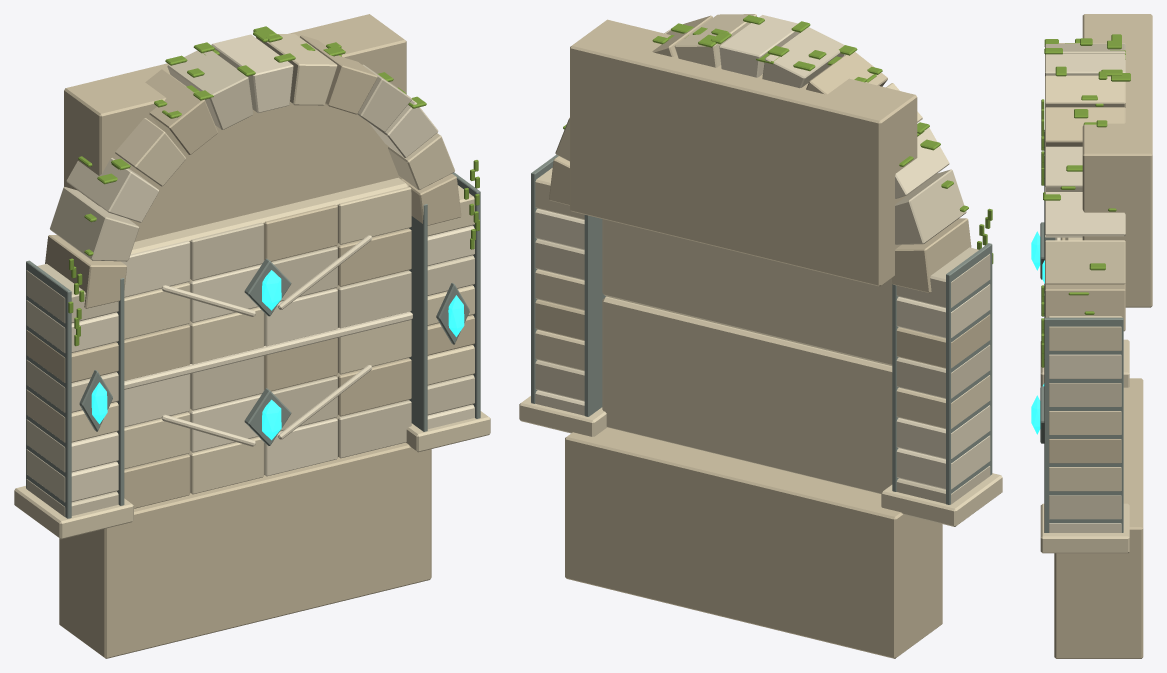
The model's file is timed_stone_gate.glb.
3 renders of one model, left to right at view 1: azimuth 30°, elevation 25°; view 2: azimuth 150°, elevation 25°; view 3: azimuth 270°, elevation 25°, orthographic. The views are drawn at different scales.
Parts seen in each view (by area): view 1: Lower_Stone_Housing, Upper_Stone_Housing, Gate_Upper_Slab, Arch_Voussoir_11, Stone_Guide_Channel.002, Arch_Voussoir_07, Stone_Guide_Channel.001, Arch_Voussoir_06, Arch_Voussoir_08, Arch_Voussoir_10, Door_Facing_Block.021, Door_Facing_Block.023 (+60 smaller); view 2: Upper_Stone_Housing, Lower_Stone_Housing, Gate_Lower_Slab, Gate_Upper_Slab, Stone_Guide_Channel.002, Stone_Guide_Channel.001, Arch_Voussoir_11, Arch_Voussoir_12, Pier_Foot, Arch_Voussoir_06, Arch_Voussoir_07, Frame_Pier_Block.004 (+22 smaller); view 3: Upper_Stone_Housing, Lower_Stone_Housing, Stone_Guide_Channel.003, Arch_Voussoir_01, Arch_Voussoir_02, Arch_Voussoir_00, Arch_Voussoir_05, Pier_Foot.001, Arch_Voussoir_04, Frame_Pier_Block.015, Frame_Pier_Block.009, Frame_Pier_Block.010 (+13 smaller).
Part boxes in pixels (x1,y1,x2,y2): Lower_Stone_Housing: (59,442,431,658); Upper_Stone_Housing: (64,14,406,241); Gate_Upper_Slab: (124,177,408,363); Arch_Voussoir_11: (50,187,139,261); Stone_Guide_Channel.002: (409,204,427,431); Arch_Voussoir_07: (167,50,253,129); Stone_Guide_Channel.001: (26,260,71,518); Arch_Voussoir_06: (211,34,293,112); Arch_Voussoir_08: (145,69,217,154); Arch_Voussoir_10: (66,158,159,222); Door_Facing_Block.021: (190,222,263,280); Door_Facing_Block.023: (338,186,411,244); Upper_Stone_Housing: (570,19,917,286); Lower_Stone_Housing: (565,427,942,658); Gate_Lower_Slab: (602,296,892,493); Gate_Upper_Slab: (602,219,892,365); Stone_Guide_Channel.002: (584,215,605,416); Stone_Guide_Channel.001: (946,243,992,504); Arch_Voussoir_11: (895,169,966,244); Arch_Voussoir_12: (891,218,971,292); Pier_Foot: (881,473,1002,526); Arch_Voussoir_06: (719,15,799,77); Arch_Voussoir_07: (762,27,844,88); Frame_Pier_Block.004: (896,344,990,398); Upper_Stone_Housing: (1082,14,1152,307); Lower_Stone_Housing: (1054,378,1143,658); Stone_Guide_Channel.003: (1044,317,1123,532); Arch_Voussoir_01: (1045,240,1125,284); Arch_Voussoir_02: (1045,192,1125,237); Arch_Voussoir_00: (1045,283,1125,331); Arch_Voussoir_05: (1045,75,1125,107); Pier_Foot.001: (1040,503,1129,553); Arch_Voussoir_04: (1045,107,1125,146); Frame_Pier_Block.015: (1048,316,1122,350); Frame_Pier_Block.009: (1049,495,1121,519); Frame_Pier_Block.010: (1049,467,1121,491).
Size of the model in its own units: 17.4 by 21.54 by 4.5.
